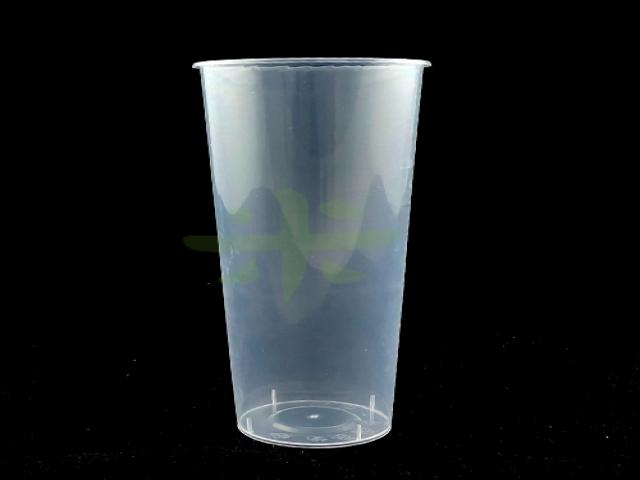cup: (196, 59, 428, 447)
